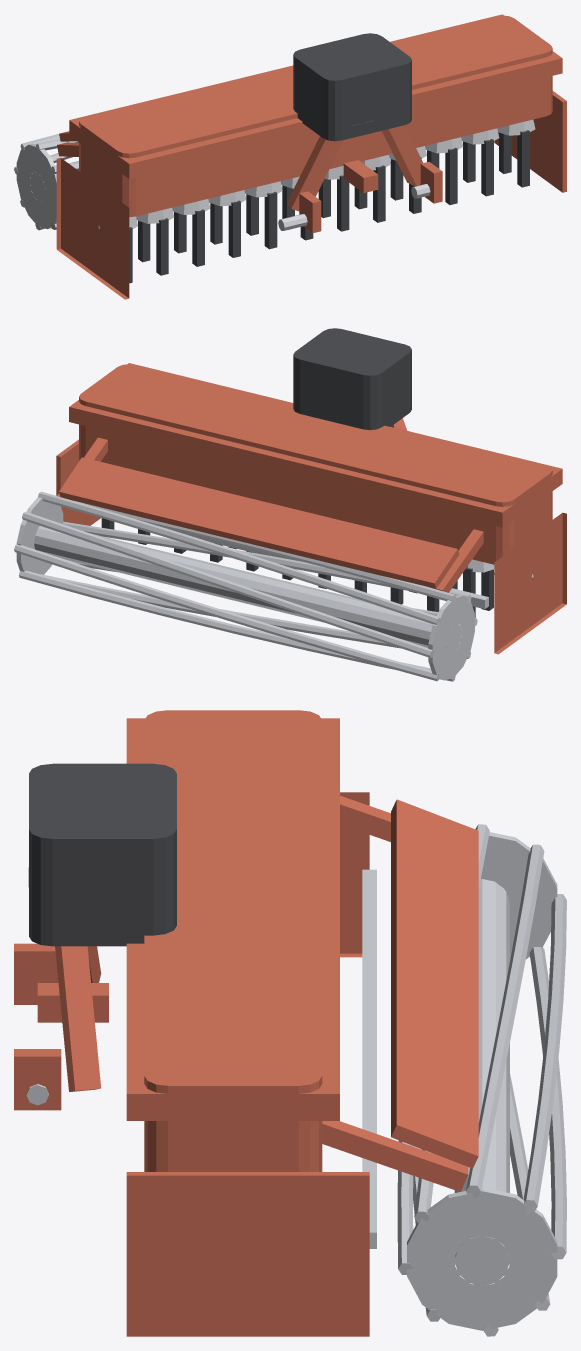
File: arable-fields-and-farm-machinery-power-harrow-15319df0__16853.glb
The picture shows the model from 3 angles, top to bottom: view 1: azimuth 30°, elevation 25°; view 2: azimuth 150°, elevation 25°; view 3: azimuth 270°, elevation 25°; orthographic projection. The views are drawn at different scales.
Visible parts, largest first — view 1: power-harrow, roller; view 2: power-harrow, roller; view 3: power-harrow, roller.
Boxes of the visible parts, left/top/right/bottom form: power-harrow: left=56, top=14, right=566, bottom=299; roller: left=14, top=134, right=78, bottom=230; power-harrow: left=56, top=328, right=566, bottom=654; roller: left=14, top=491, right=477, bottom=681; power-harrow: left=14, top=710, right=478, bottom=1336; roller: left=397, top=824, right=566, bottom=1336.
Size of the model in its own units: 3.06 by 1.32 by 1.87.
